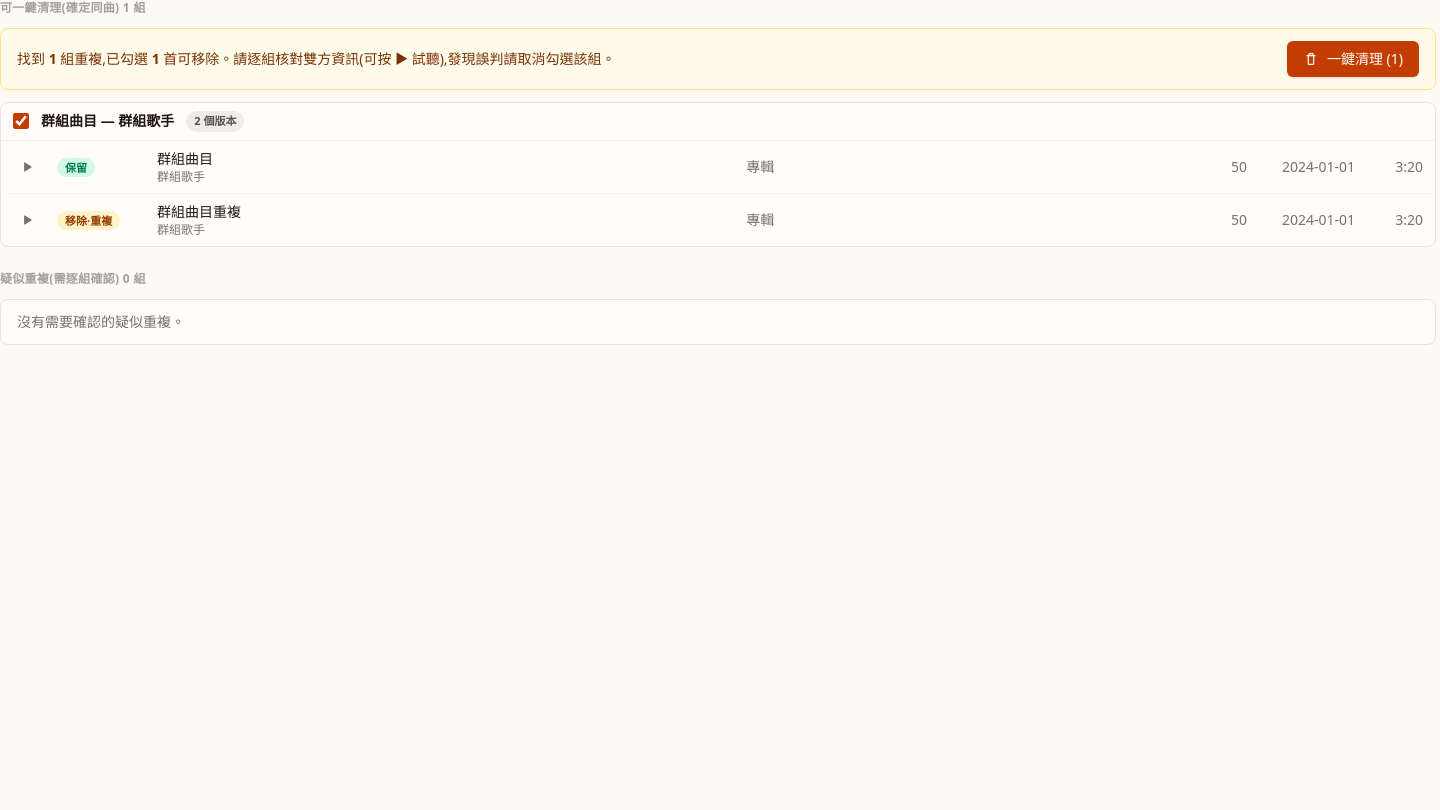
Test: CleanupView 失敗回饋（mutation onError 不誤報成功） › test_onError_一鍵清理失敗顯錯不誤關（S5）
Click the button "一鍵清理 (1)". click: click(1353, 59)
box: [1287,41,1419,77]
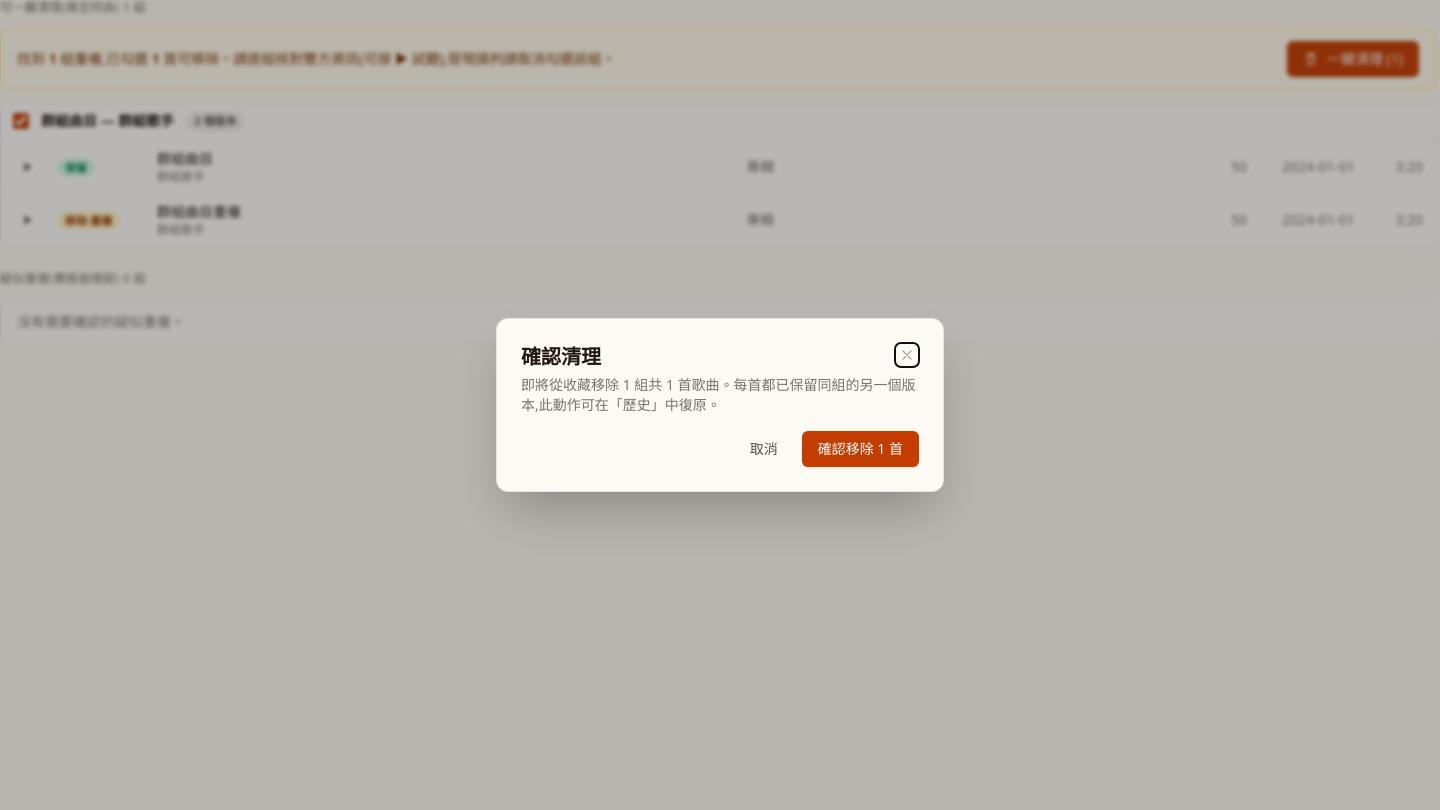
Click the button "確認移除 1 首". click: click(860, 449)
box: [802,431,919,467]
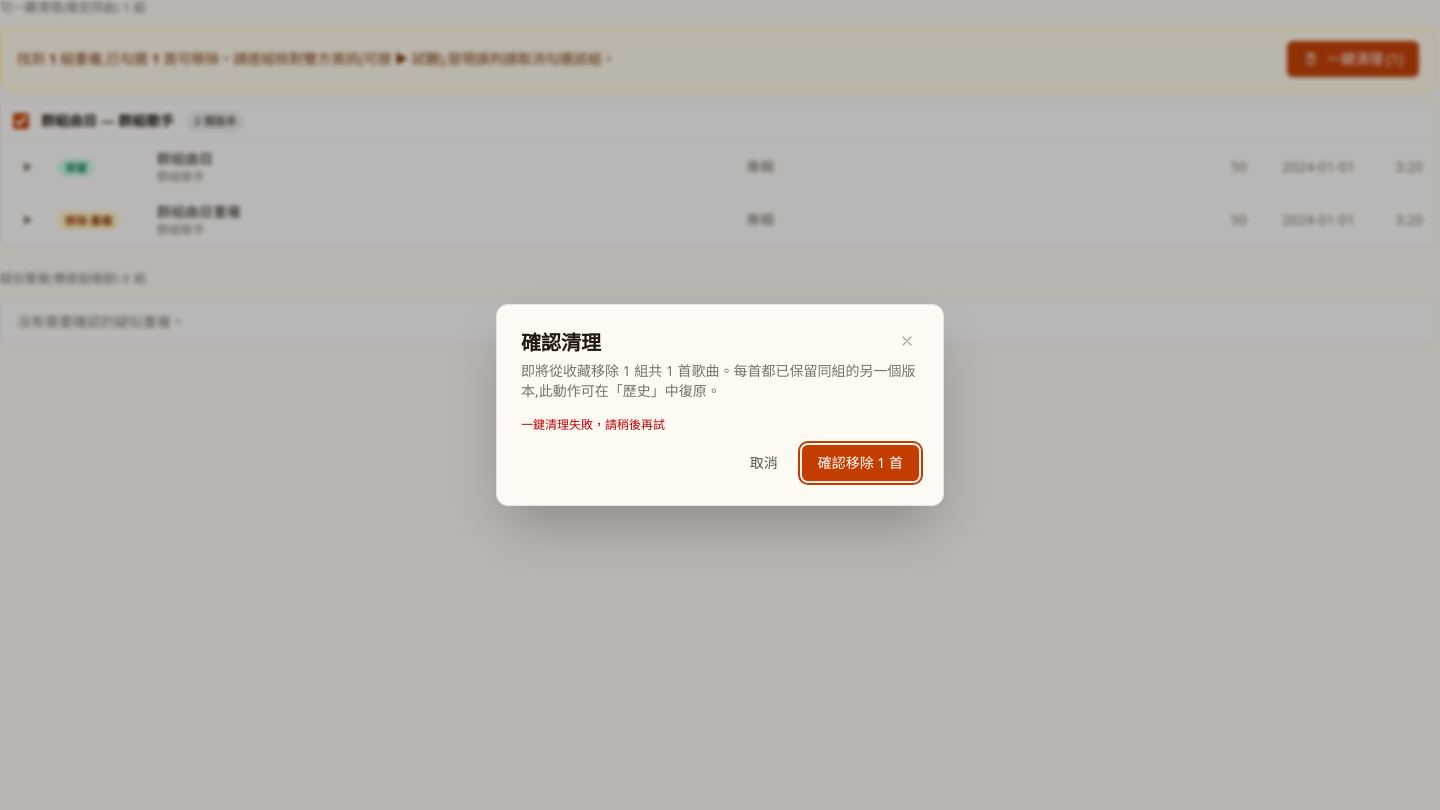
Check: the dialog is shown, box [496,304,944,506]
Check: the message shows "失敗", box [521,416,665,433]
